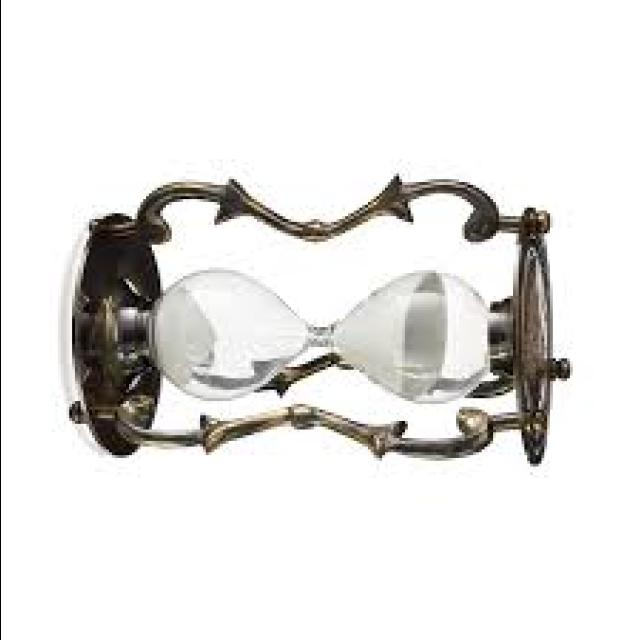clock: (39, 167, 585, 500)
